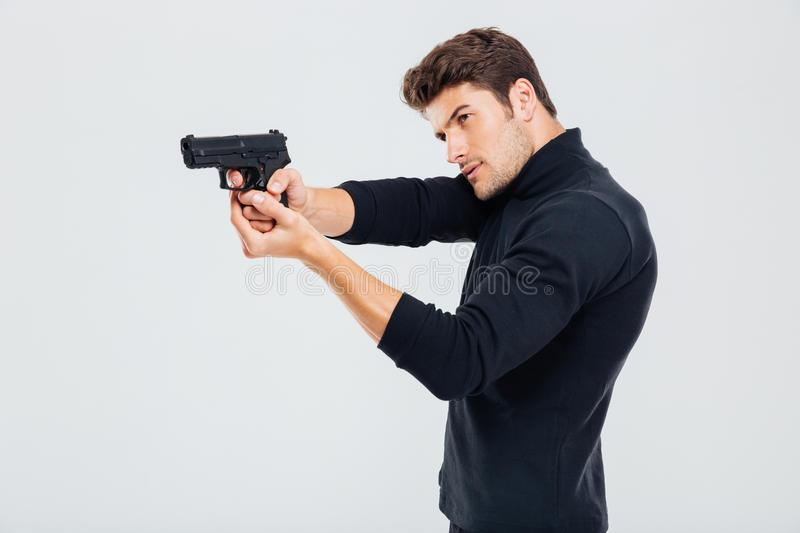criminal: (180, 26, 658, 533)
weapon: (179, 127, 295, 232)
